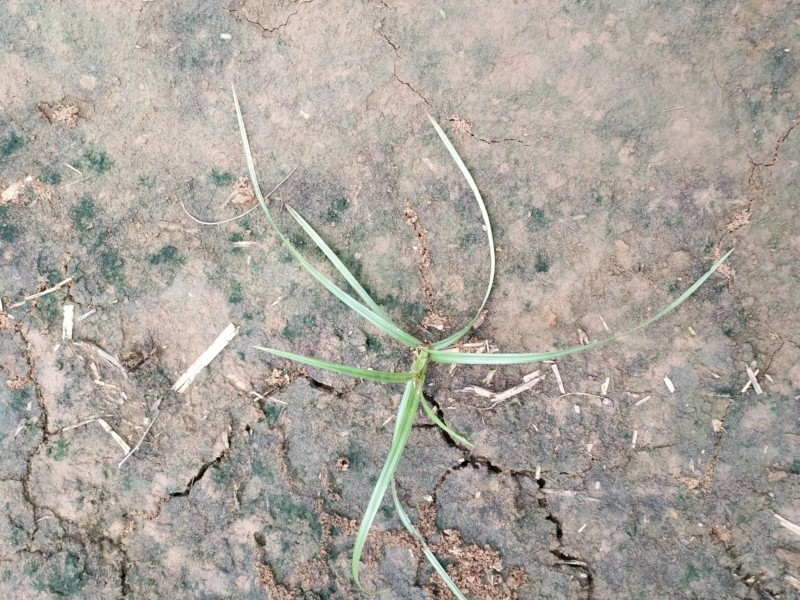sedge: (228, 81, 736, 587)
